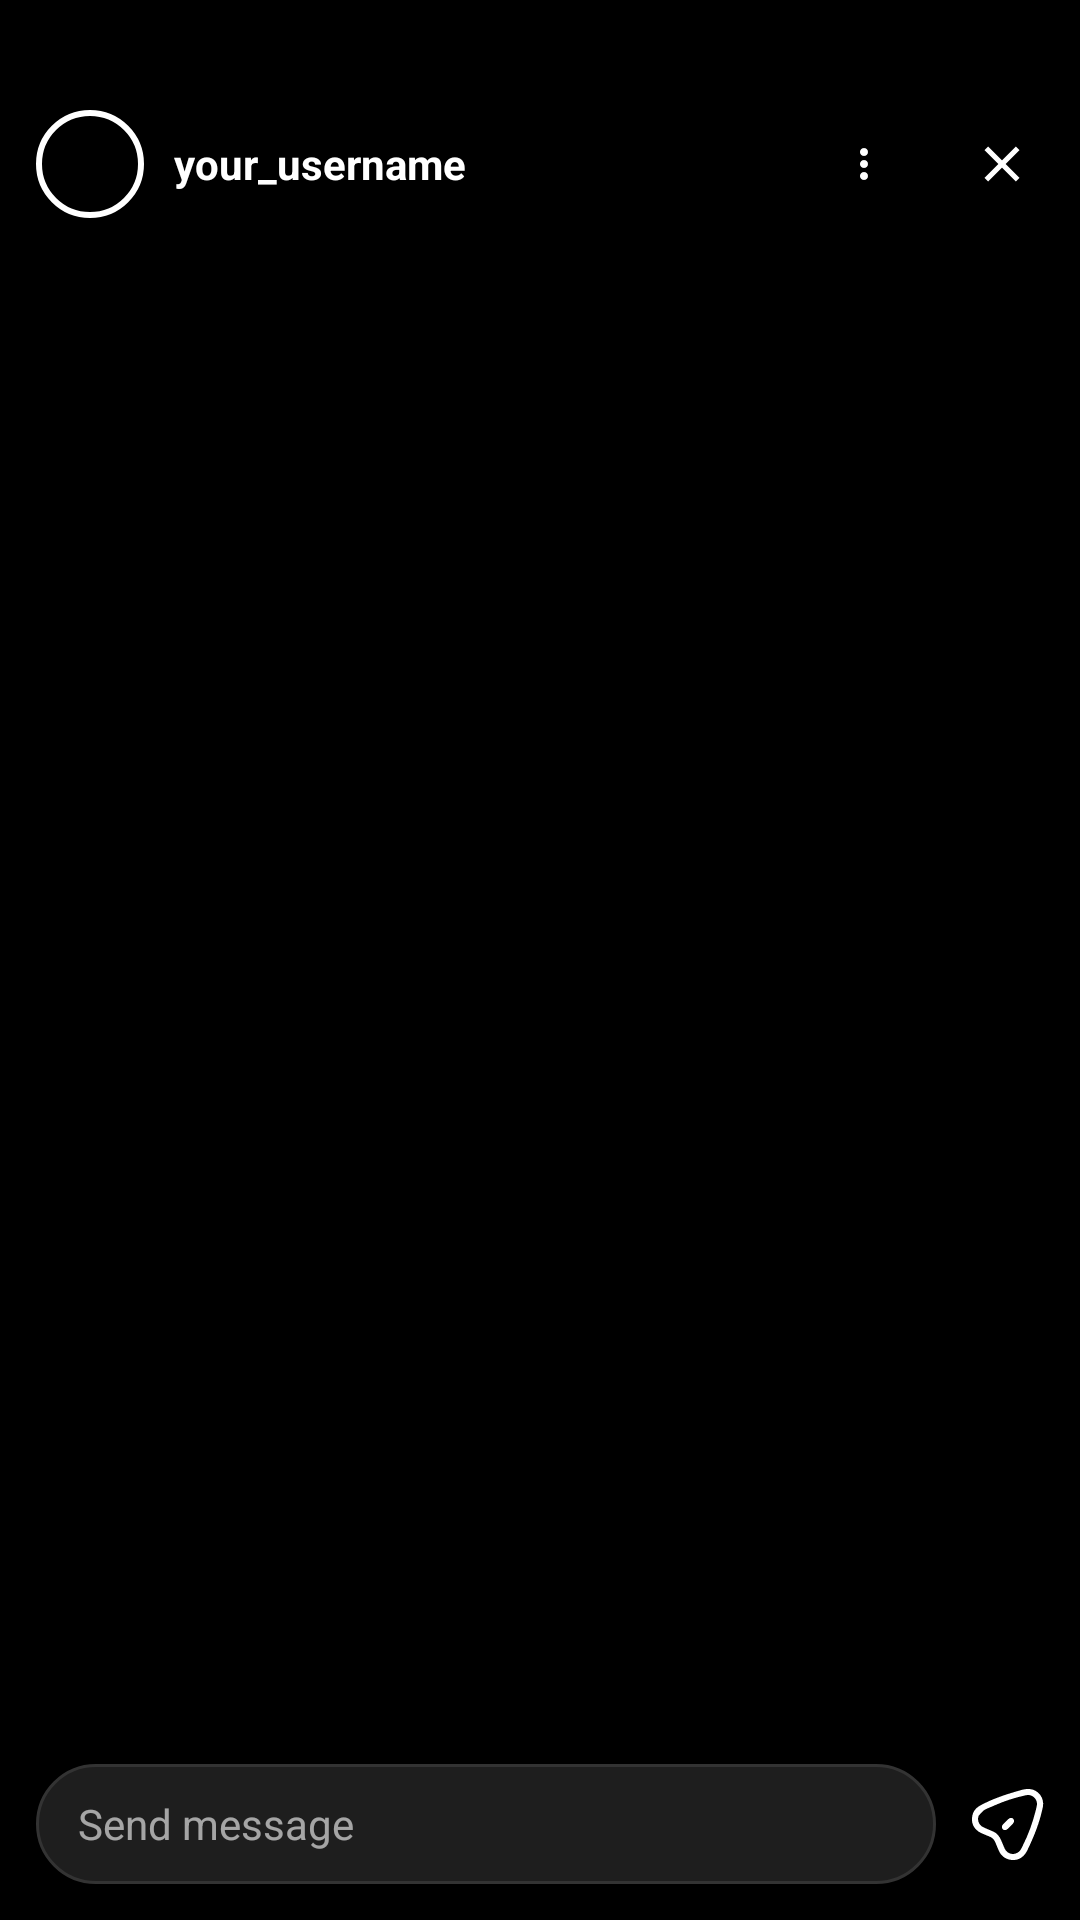

Locate icon controls on the screen. Image size 1080px x 1920px, boxes as (x1, y1, x2, y2).
close: (984, 146, 1020, 182)
more vertical: (860, 148, 868, 180)
